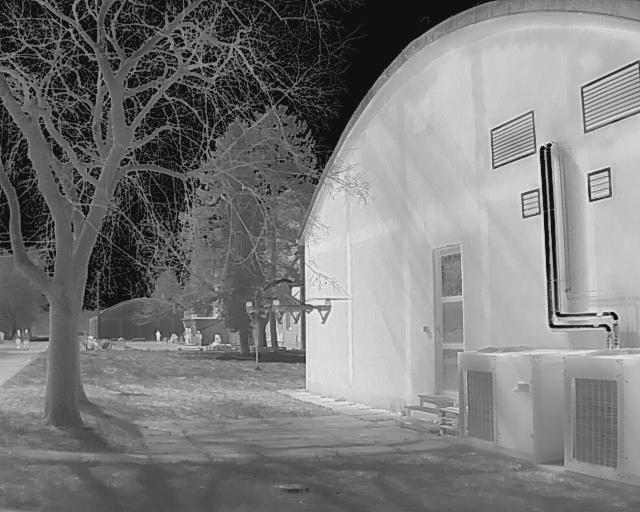drone: (233, 256, 351, 352)
